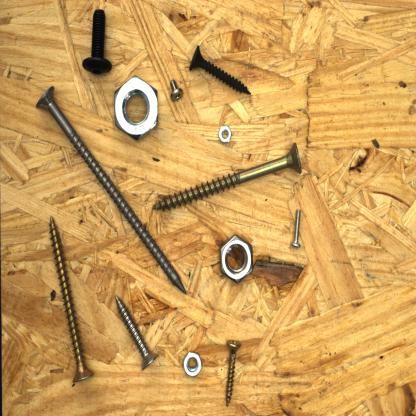screw: (33, 81, 189, 298), (150, 138, 306, 215), (47, 212, 98, 388), (186, 42, 257, 100), (112, 292, 161, 374), (80, 6, 115, 78), (221, 335, 244, 409), (167, 72, 187, 106), (290, 204, 304, 252)
